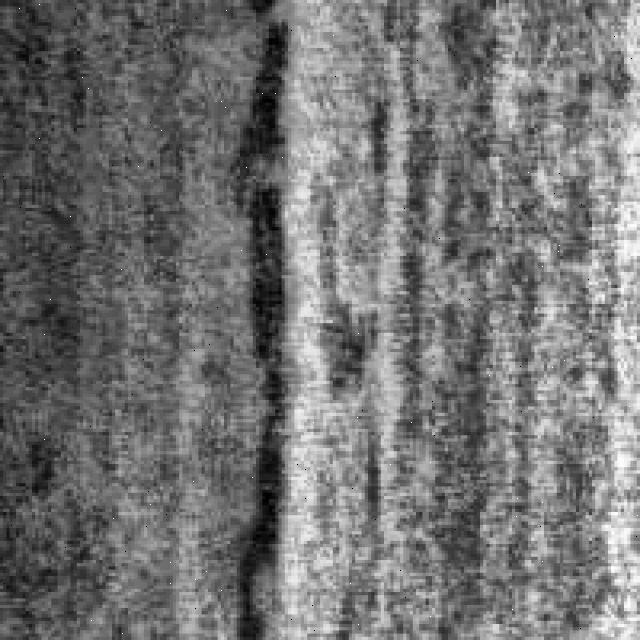Patches: (218, 3, 364, 627)
